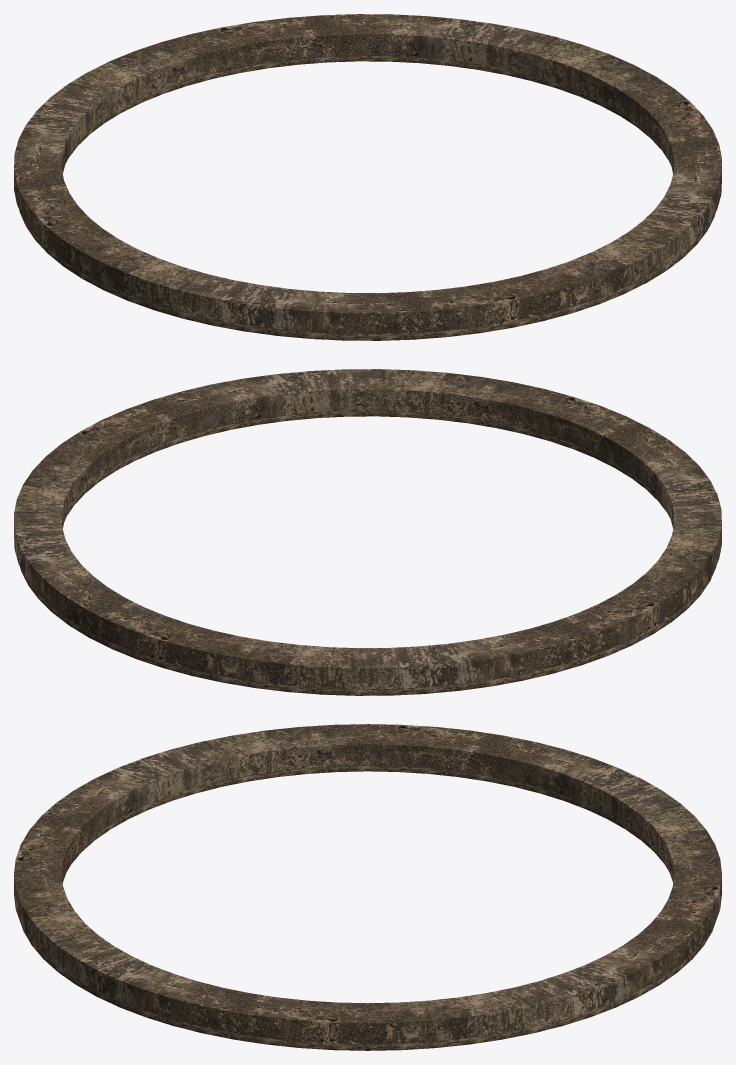
Rendered from materials_5_stonestick_circle_0.fbx.
3 renders of one model, top to bottom at view 1: azimuth 30°, elevation 25°; view 2: azimuth 150°, elevation 25°; view 3: azimuth 270°, elevation 25°, orthographic.
Parts seen in each view (by area): view 1: materials_5_stonestick_circle_0; view 2: materials_5_stonestick_circle_0; view 3: materials_5_stonestick_circle_0.
Part boxes in pixels (left/top/right/bottom): materials_5_stonestick_circle_0: left=14, top=14, right=721, bottom=340; materials_5_stonestick_circle_0: left=14, top=369, right=721, bottom=695; materials_5_stonestick_circle_0: left=14, top=724, right=721, bottom=1050.
Bounding box in the file's own units: 567 × 25.36 × 567.
